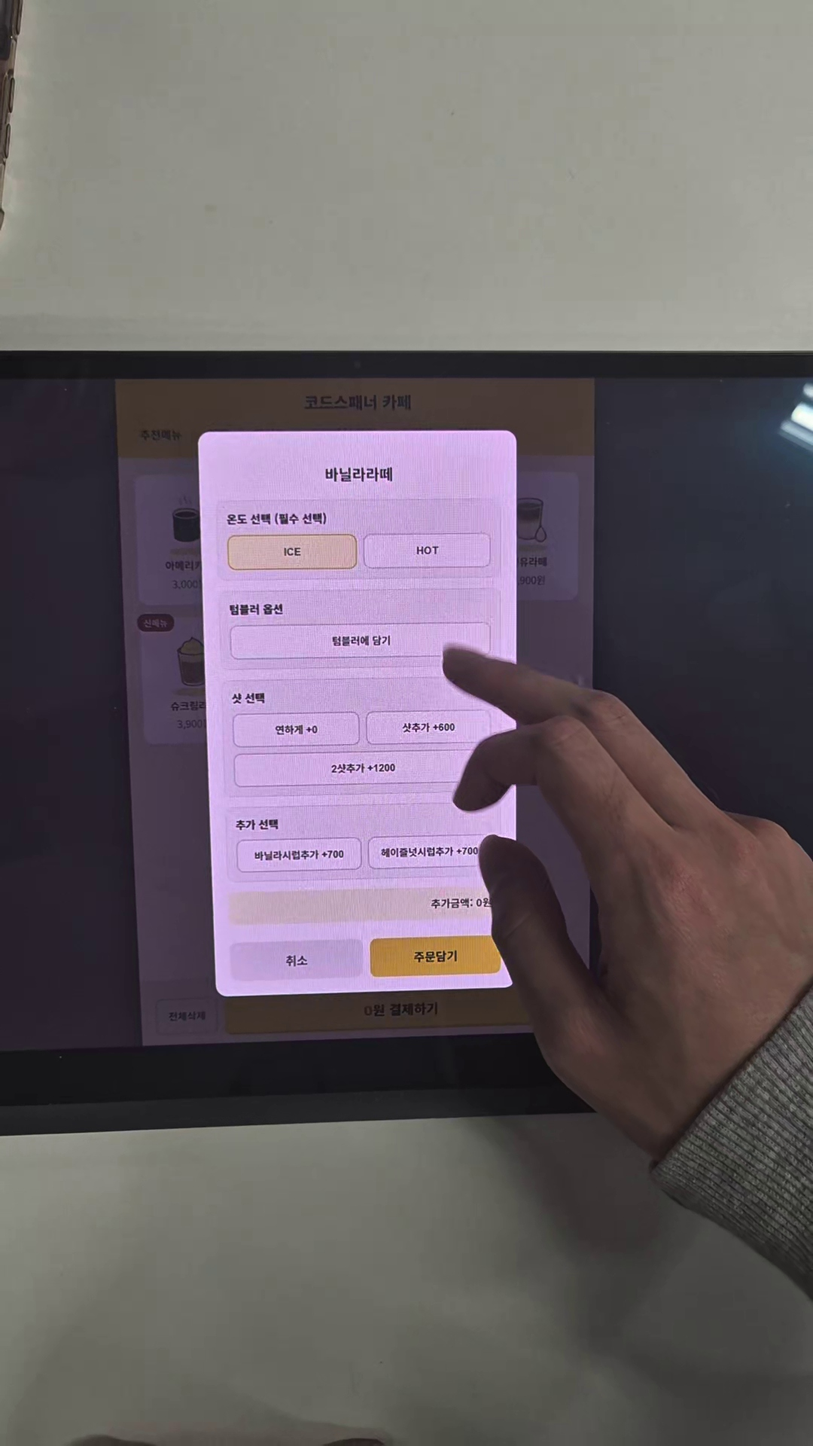action_button: (232, 940, 364, 980), (370, 937, 502, 977)
option_button: (234, 753, 492, 789), (231, 623, 489, 658), (226, 530, 358, 570), (364, 530, 494, 570), (232, 710, 362, 750), (365, 707, 495, 747), (233, 835, 363, 875), (367, 832, 496, 872)
popup_modal: (199, 431, 521, 998)
